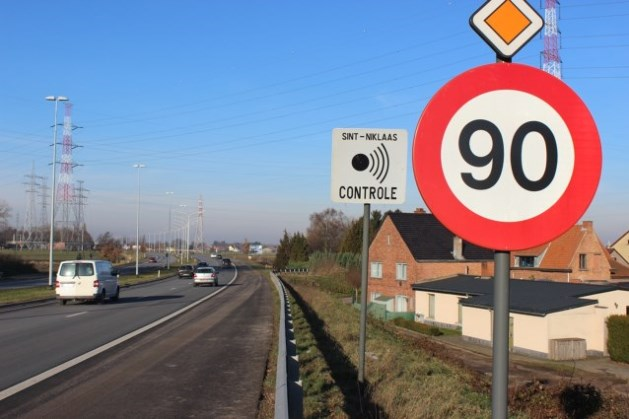Speed_limit_90km: (413, 61, 602, 251)
car: (55, 258, 122, 306), (191, 265, 220, 287)
